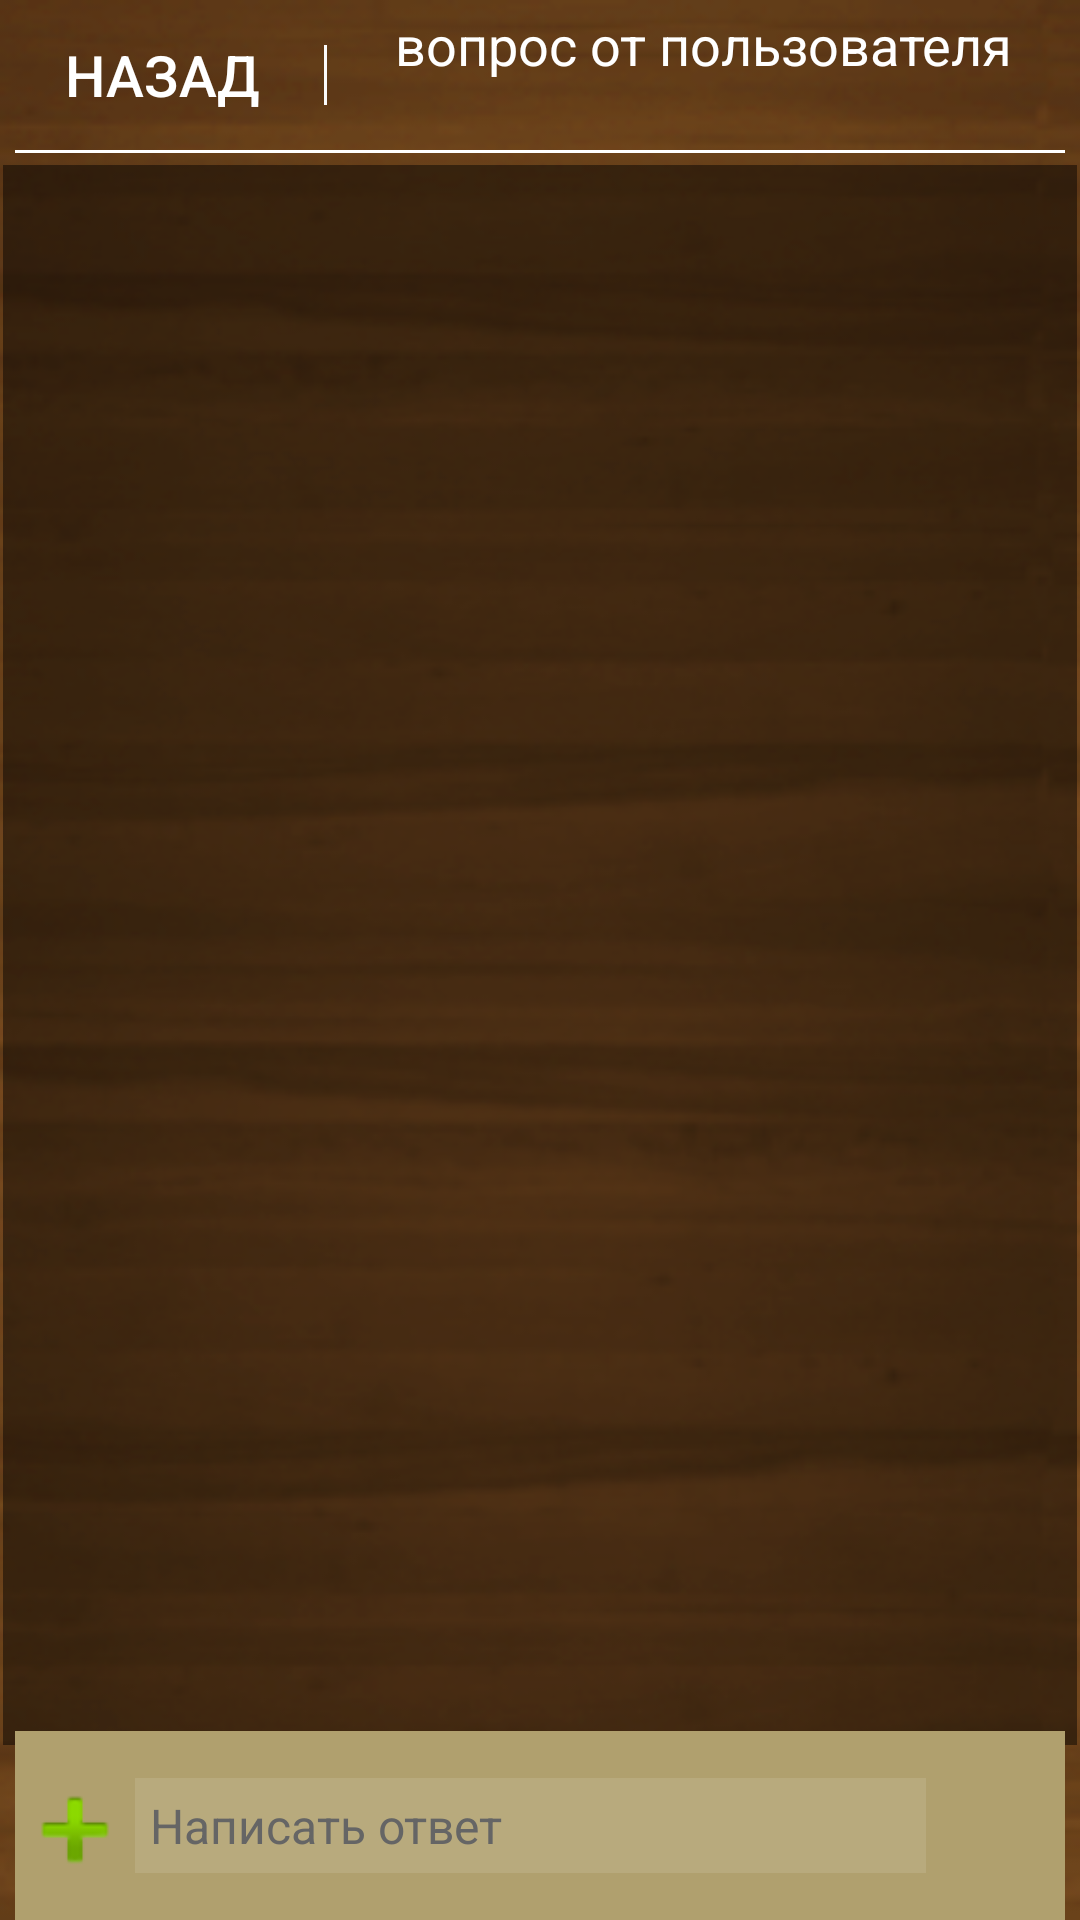

Icons on this 1080x1920 Android screen, each with the point to tap as (x,y):
add: (75,1830)
